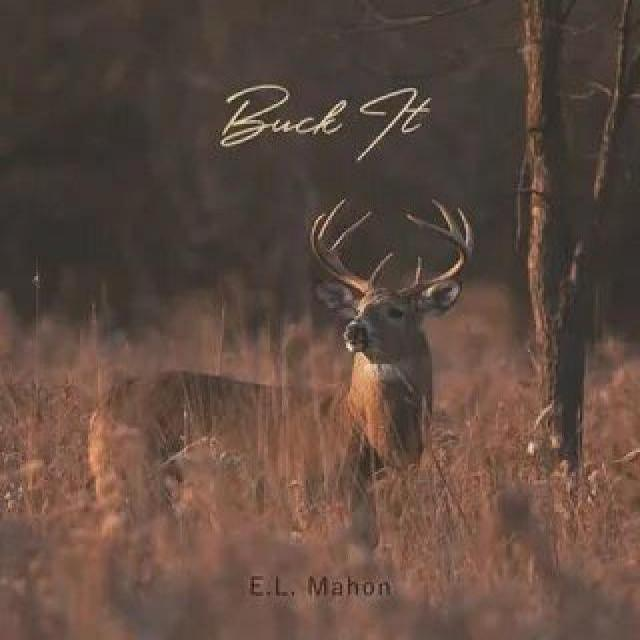deer: (28, 180, 538, 575)
